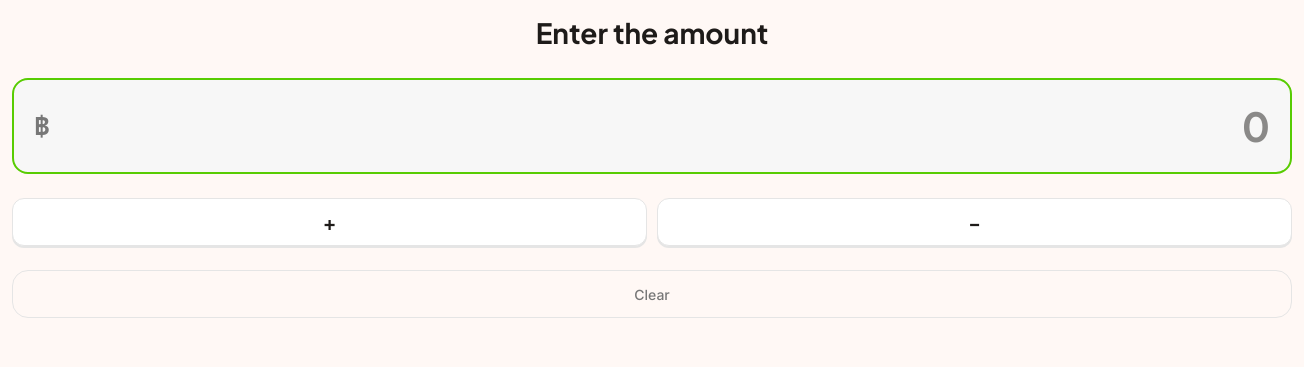
it: StepAmount calculator input › strips characters that are not digits, dot or operators
Type "12a+3x" into the field with placeholder "0" at x=666, y=126, box left=62, top=96, right=1270, bottom=156
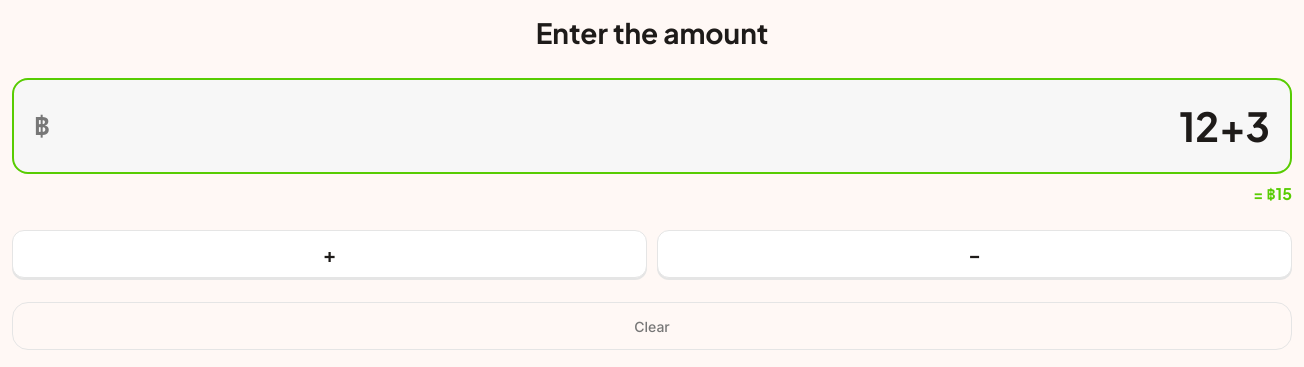
Check: the field with placeholder "0" holds "12+3", box left=62, top=96, right=1270, bottom=156
